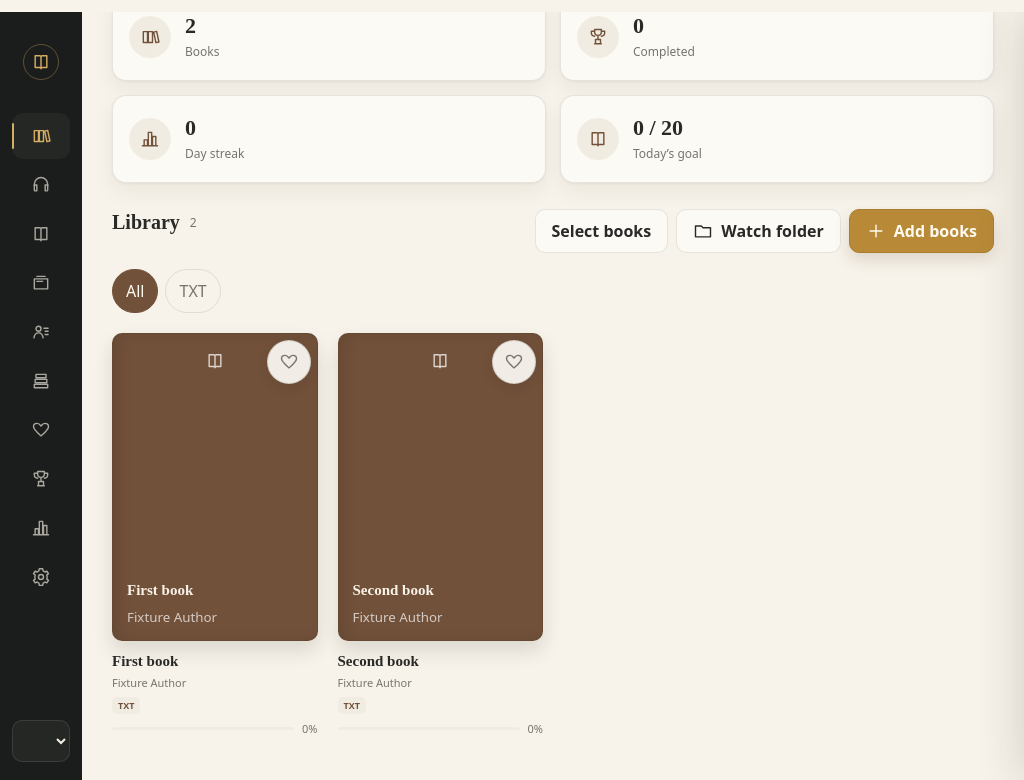
Test case: App › keeps the newest reader request when two books are opened quickly
(page scrolled)
Double-click the button with aria-label "First book —" at x=215, y=534, box [112,333,318,736]
Double-click the button with aria-label "Second book —" at x=440, y=534, box [338,333,543,736]
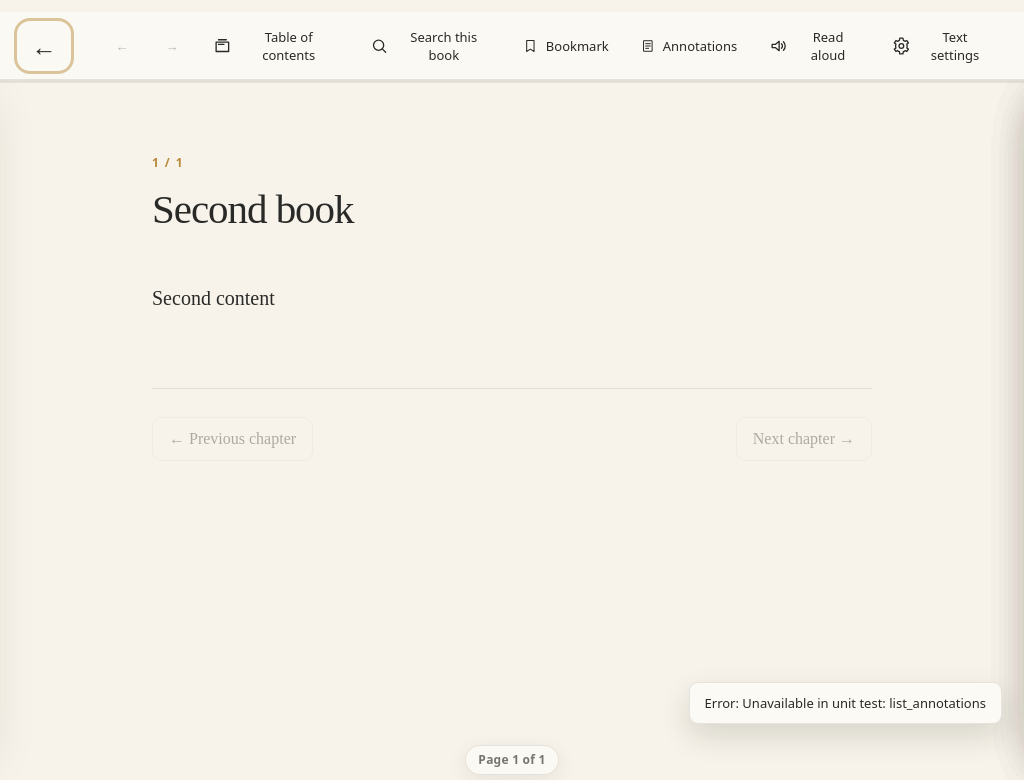
Check: the text "Second content" is shown, box [152,287,275,309]
